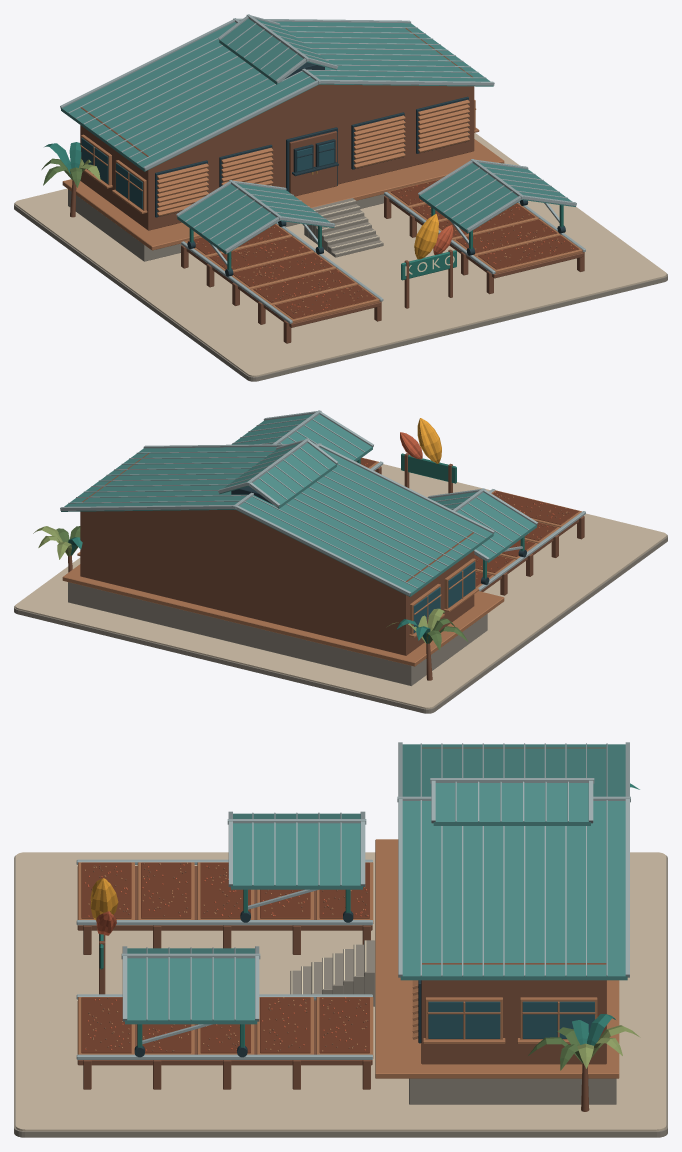
The picture shows the model from 3 angles, top to bottom: view 1: azimuth 30°, elevation 25°; view 2: azimuth 150°, elevation 25°; view 3: azimuth 270°, elevation 25°; orthographic projection. The views are drawn at different scales.
Parts seen in each view (by area): view 1: Fermentation House, Drying Tables, Travelling Roofs, Cooperative Marker; view 2: Fermentation House, Drying Tables, Travelling Roofs, Cooperative Marker; view 3: Drying Tables, Fermentation House, Travelling Roofs, Cooperative Marker.
Part boxes in pixels (box(x1,y1,x2,y2)): Fermentation House: box(41, 14, 504, 261); Drying Tables: box(14, 133, 667, 381); Travelling Roofs: box(176, 159, 576, 276); Cooperative Marker: box(401, 214, 456, 308); Fermentation House: box(33, 438, 504, 685); Drying Tables: box(14, 457, 667, 713); Travelling Roofs: box(231, 410, 537, 584); Cooperative Marker: box(400, 418, 456, 493); Drying Tables: box(14, 852, 667, 1137); Fermentation House: box(290, 742, 640, 1111); Travelling Roofs: box(121, 811, 366, 1057); Cooperative Marker: box(90, 878, 118, 994).
Size of the model in its own units: 24.44 by 8.74 by 23.6.
